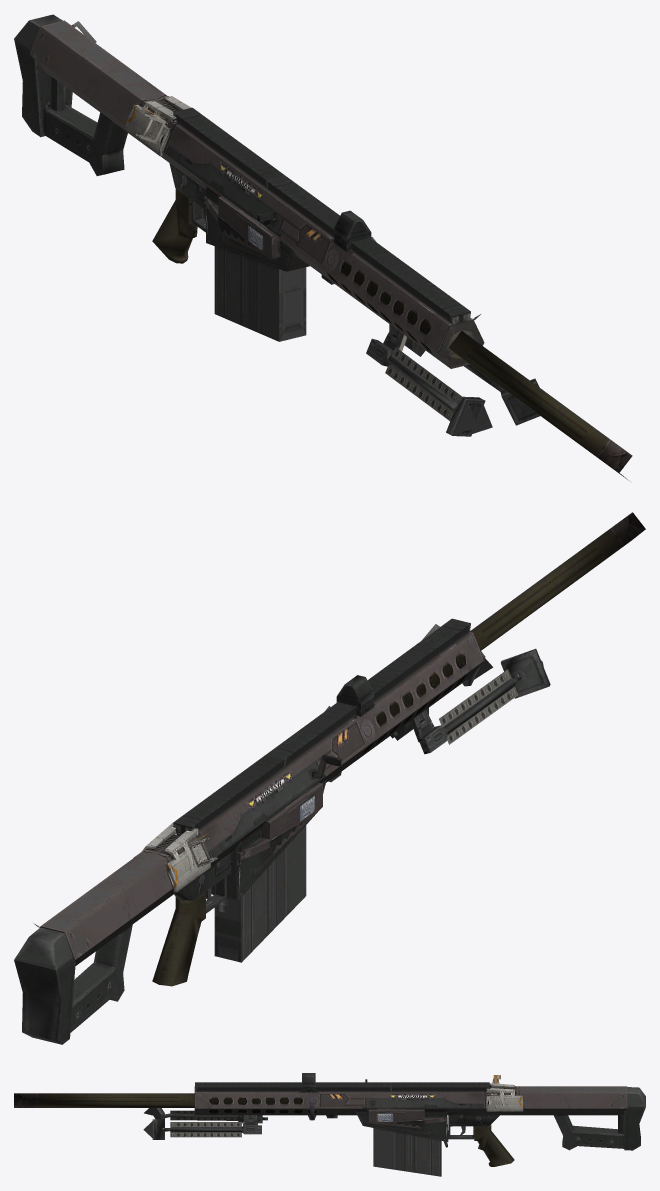
Rendered from Sniper_Rifle_jjq_01_lod1_LOD_(000966).glb.
3 views of the same model, one above another, from view 1: azimuth 30°, elevation 25°; view 2: azimuth 150°, elevation 25°; view 3: azimuth 270°, elevation 25° (orthographic). The views are drawn at different scales.
Visible parts, largest first — view 1: jjq_01_lod1; view 2: jjq_01_lod1; view 3: jjq_01_lod1.
Part boxes in pixels (bbox=[...]): jjq_01_lod1: bbox=[14, 14, 632, 481]; jjq_01_lod1: bbox=[14, 512, 645, 1044]; jjq_01_lod1: bbox=[14, 1073, 645, 1176].
Bounding box in the file's own units: 0.1763 × 0.3035 × 1.76.
Materials: 1 (1 with a texture image).
